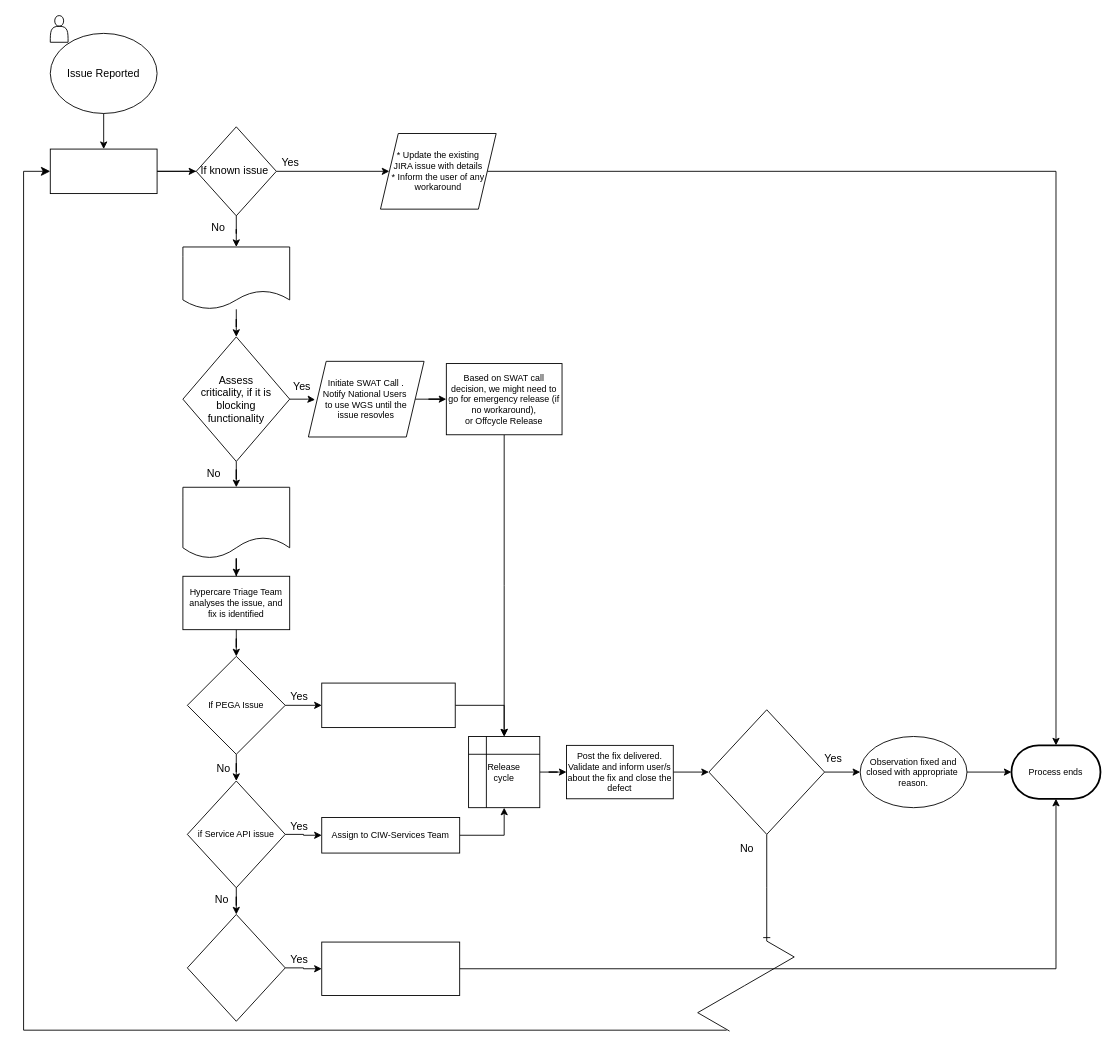
This 1117x1055 diagram has some shape labels left out. Each missing label, with the box of its shape:
Assing to PEGA Scrum Team: (321, 682, 455, 728)
Captures the issue details in JIRA: (182, 246, 290, 309)
if its a user-knowledge gap: (186, 914, 285, 1021)
Inform the L0 Team about it, and mark it closure stating appropriate reason: (321, 941, 460, 995)
L0 Team connects with user: (49, 148, 157, 194)
Update the criticality based on occurrence and claim impact: (182, 486, 290, 558)
User Acknowledges to close the issue: (708, 709, 825, 834)
